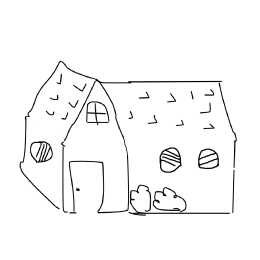closed_window: (155, 143, 187, 175), (193, 143, 223, 174), (28, 138, 57, 165)
door: (67, 158, 116, 215)
single_line_roof: (61, 74, 241, 148), (12, 61, 125, 138)
wall: (57, 76, 132, 220)
